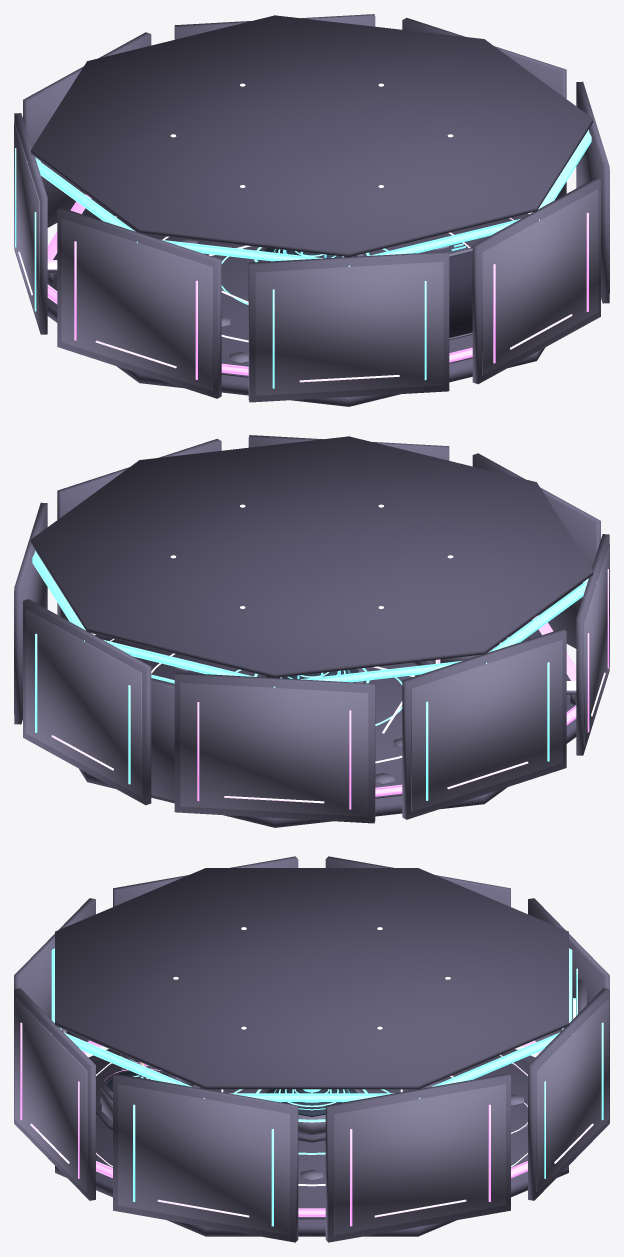
Rendered from lobby_spaceship.glb.
The picture shows the model from 3 angles, top to bottom: view 1: azimuth 30°, elevation 25°; view 2: azimuth 150°, elevation 25°; view 3: azimuth 270°, elevation 25°; orthographic projection.
Parts seen in each view (by area): view 1: StoneDark, StoneLight, Stone, NeonCyan, Sand, NeonMagenta, StoneShadow, NeonPurple; view 2: StoneDark, StoneLight, Stone, NeonCyan, Sand, NeonMagenta, NeonPurple; view 3: StoneDark, StoneLight, Stone, NeonCyan, Sand, NeonMagenta, NeonPurple, ScreenDark.
Part boxes in pixels (x1=…): StoneDark: x1=31, y1=15, x2=592, y2=377; StoneLight: x1=14, y1=123, x2=609, y2=395; Stone: x1=14, y1=14, x2=609, y2=402; NeonCyan: x1=15, y1=129, x2=591, y2=388; Sand: x1=47, y1=202, x2=545, y2=406; NeonMagenta: x1=47, y1=194, x2=588, y2=379; StoneShadow: x1=449, y1=252, x2=472, y2=337; NeonPurple: x1=18, y1=216, x2=572, y2=382; StoneDark: x1=31, y1=436, x2=592, y2=798; StoneLight: x1=14, y1=544, x2=609, y2=816; Stone: x1=14, y1=435, x2=609, y2=823; NeonCyan: x1=32, y1=550, x2=596, y2=800; Sand: x1=78, y1=623, x2=576, y2=827; NeonMagenta: x1=91, y1=569, x2=608, y2=809; NeonPurple: x1=51, y1=637, x2=605, y2=803; StoneDark: x1=55, y1=868, x2=568, y2=1219; StoneLight: x1=15, y1=998, x2=608, y2=1235; Stone: x1=14, y1=856, x2=609, y2=1242; NeonCyan: x1=51, y1=948, x2=603, y2=1226; Sand: x1=55, y1=1049, x2=568, y2=1236; NeonMagenta: x1=20, y1=1022, x2=542, y2=1226; NeonPurple: x1=30, y1=1055, x2=593, y2=1217; ScreenDark: x1=106, y1=1059, x2=357, y2=1116.
Size of the model in its own units: 19.28 by 5.4 by 19.28.
